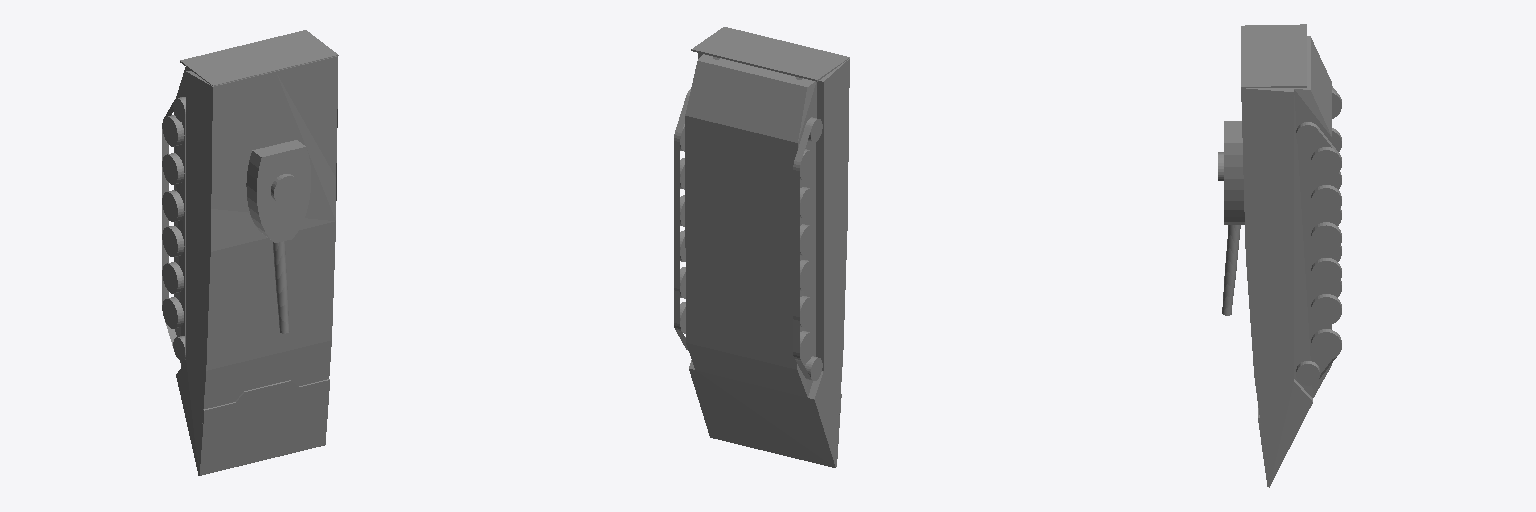
File: tank-20170307.obj
3 renders of one model, left to right at view 1: azimuth 30°, elevation 25°; view 2: azimuth 150°, elevation 25°; view 3: azimuth 270°, elevation 25°, orthographic.
Visible parts, largest first — view 1: default; view 2: default; view 3: default.
Boxes of the visible parts, box(x1,y1,x2,y2) form: default: box(162, 30, 338, 475); default: box(674, 27, 849, 467); default: box(1218, 24, 1341, 487).
Bounding box in the file's own units: 3.21 × 9.76 × 2.73.